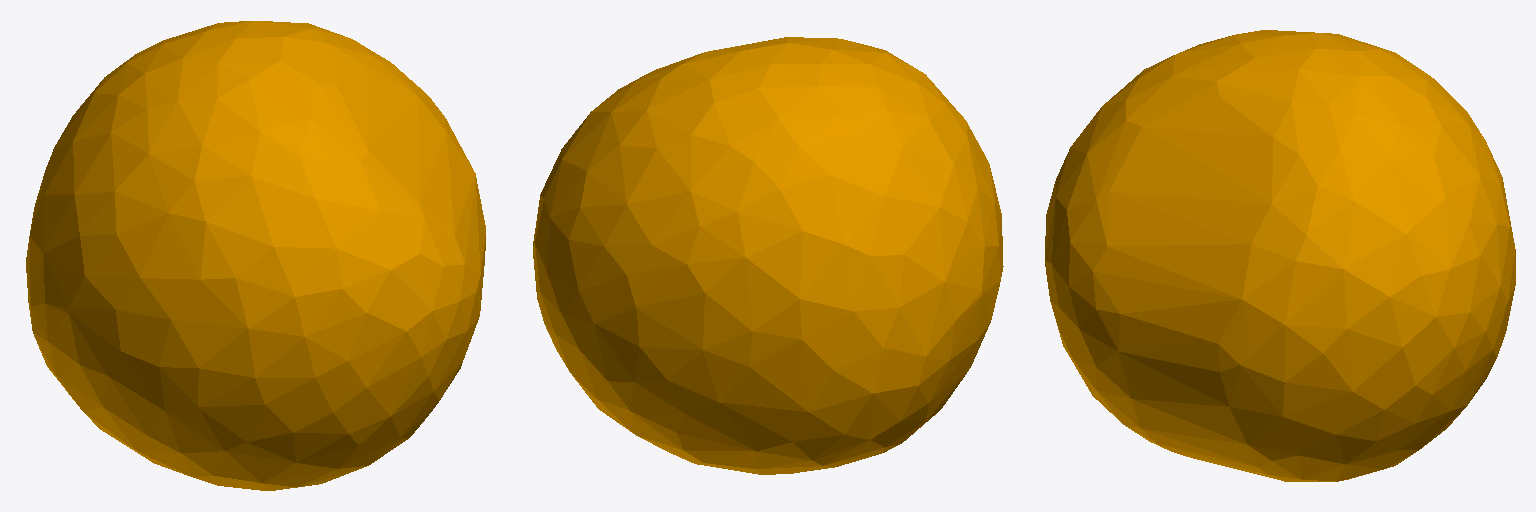
robot.urdf — 015_peach:
<?xml version="1.0" encoding="UTF-8"?>
<robot name="015_peach">
	<link name="base">
		<collision>
			<geometry>
				<mesh filename="..\vhacd\015_peach_vhacd.obj" scale="1.0 1.0 1.0"/>
			</geometry>
			<origin xyz="0 0 0"/>
			<contact_coefficients mu="0.24" />
		</collision>
		<visual>
			<geometry>
				<mesh filename="..\vhacd\015_peach_vhacd.obj" scale="1.0 1.0 1.0"/>
			</geometry>
			<origin xyz="0 0 0"/>
		</visual>
		<inertial>
			<mass value="0"/>
			<inertia ixx="0.0" ixy="-0.0" ixz="0.0" iyy="0.0" iyz="-0.0" izz="0.0" />
			<origin xyz="-0.015047325745979173 0.0067839971586114815 0.02825960307351548"/>
		</inertial>
	</link>
</robot>

--- Facts derived from the render (not from the file) ---
3 views of the same robot in one strip: view 1: azimuth 30°, elevation 25°; view 2: azimuth 150°, elevation 25°; view 3: azimuth 270°, elevation 25° (orthographic).
Model 015_peach with 1 links and 0 joints (none), rooted at base, posed all joints at 0.
Visible links, largest first — view 1: base; view 2: base; view 3: base.
Boxes of the visible links, x1,y1,x2,y2 form: base: [26, 21, 485, 490]; base: [533, 37, 1003, 474]; base: [1045, 30, 1515, 481].
Size in the robot's own frame: 0.0624 by 0.0629 by 0.0589 metres.
Meshes: 1 distinct files referenced, 1 mesh visuals loaded (1 OBJ).